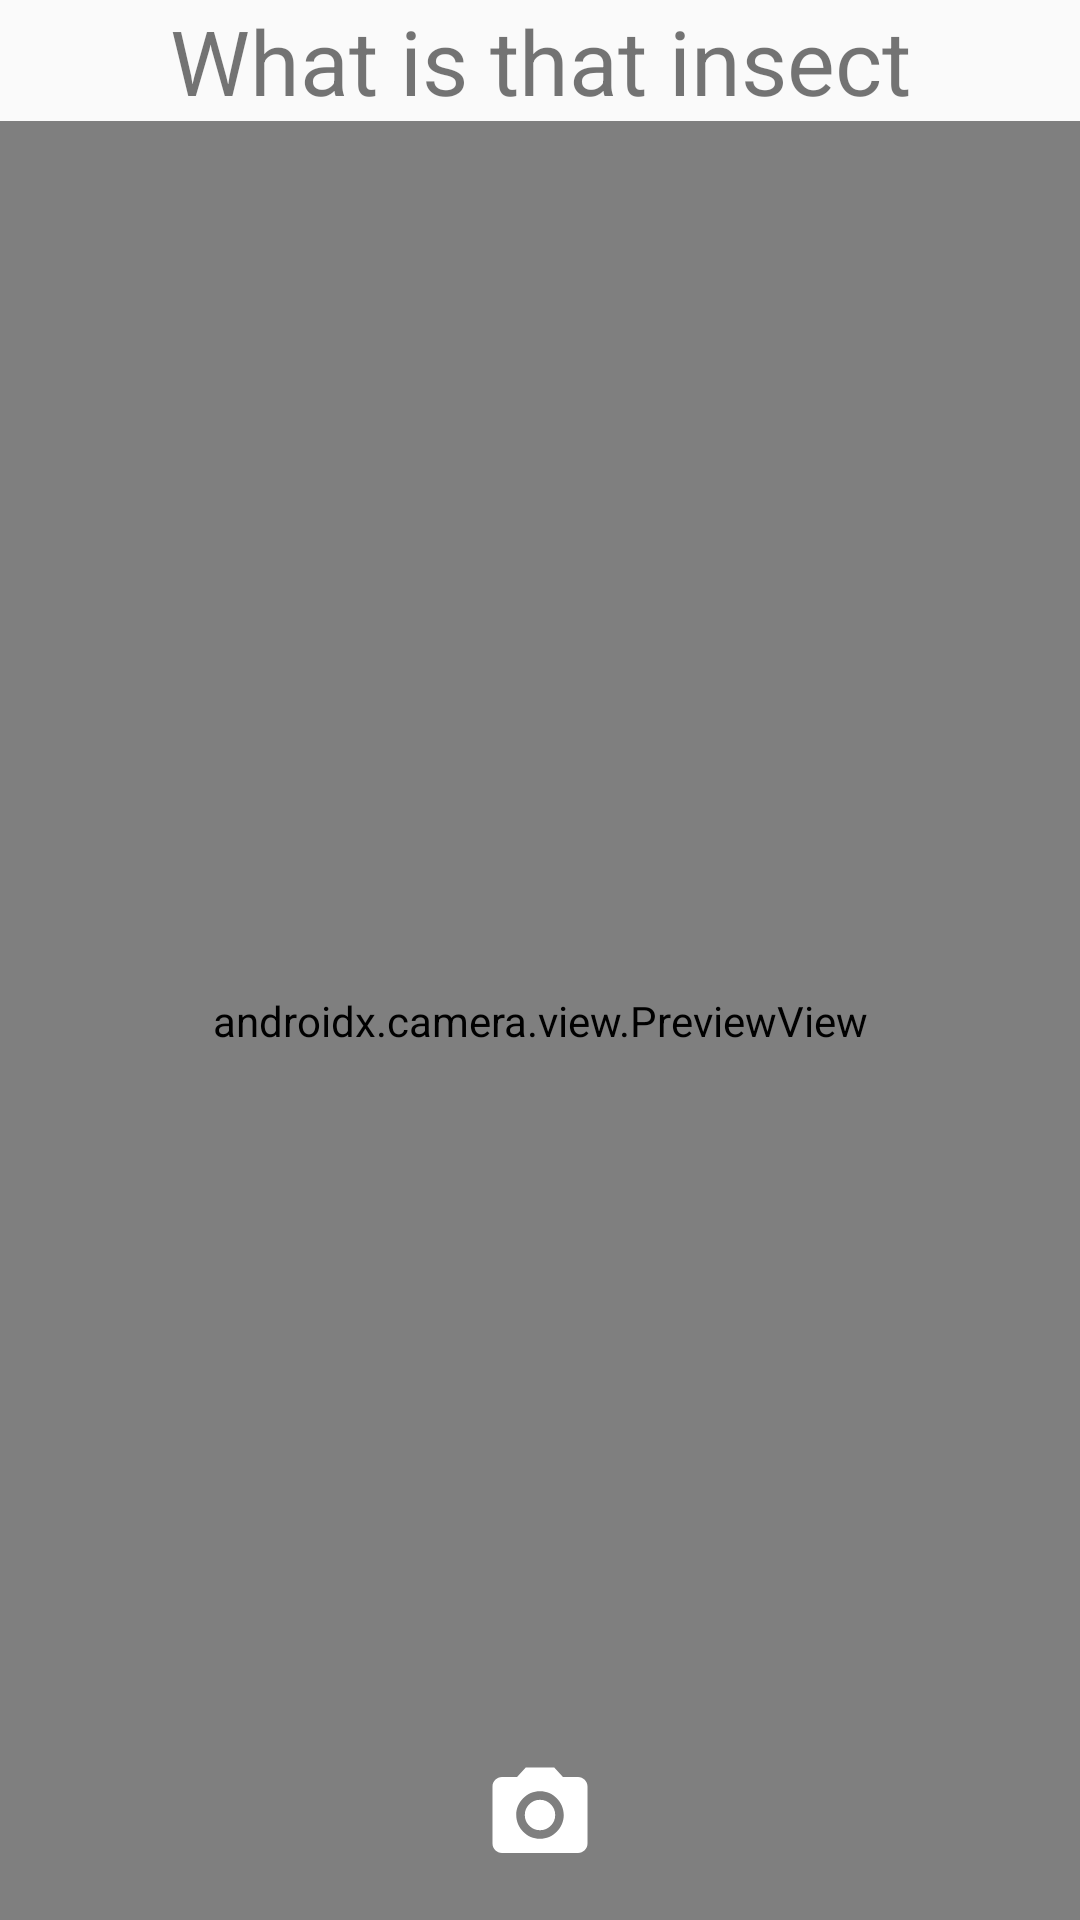

Named icons in this screenshot (1080px x 1920px) and their bounding boxes, (x1, y1, x2, y2):
taking photo: (492, 1767, 588, 1853)
